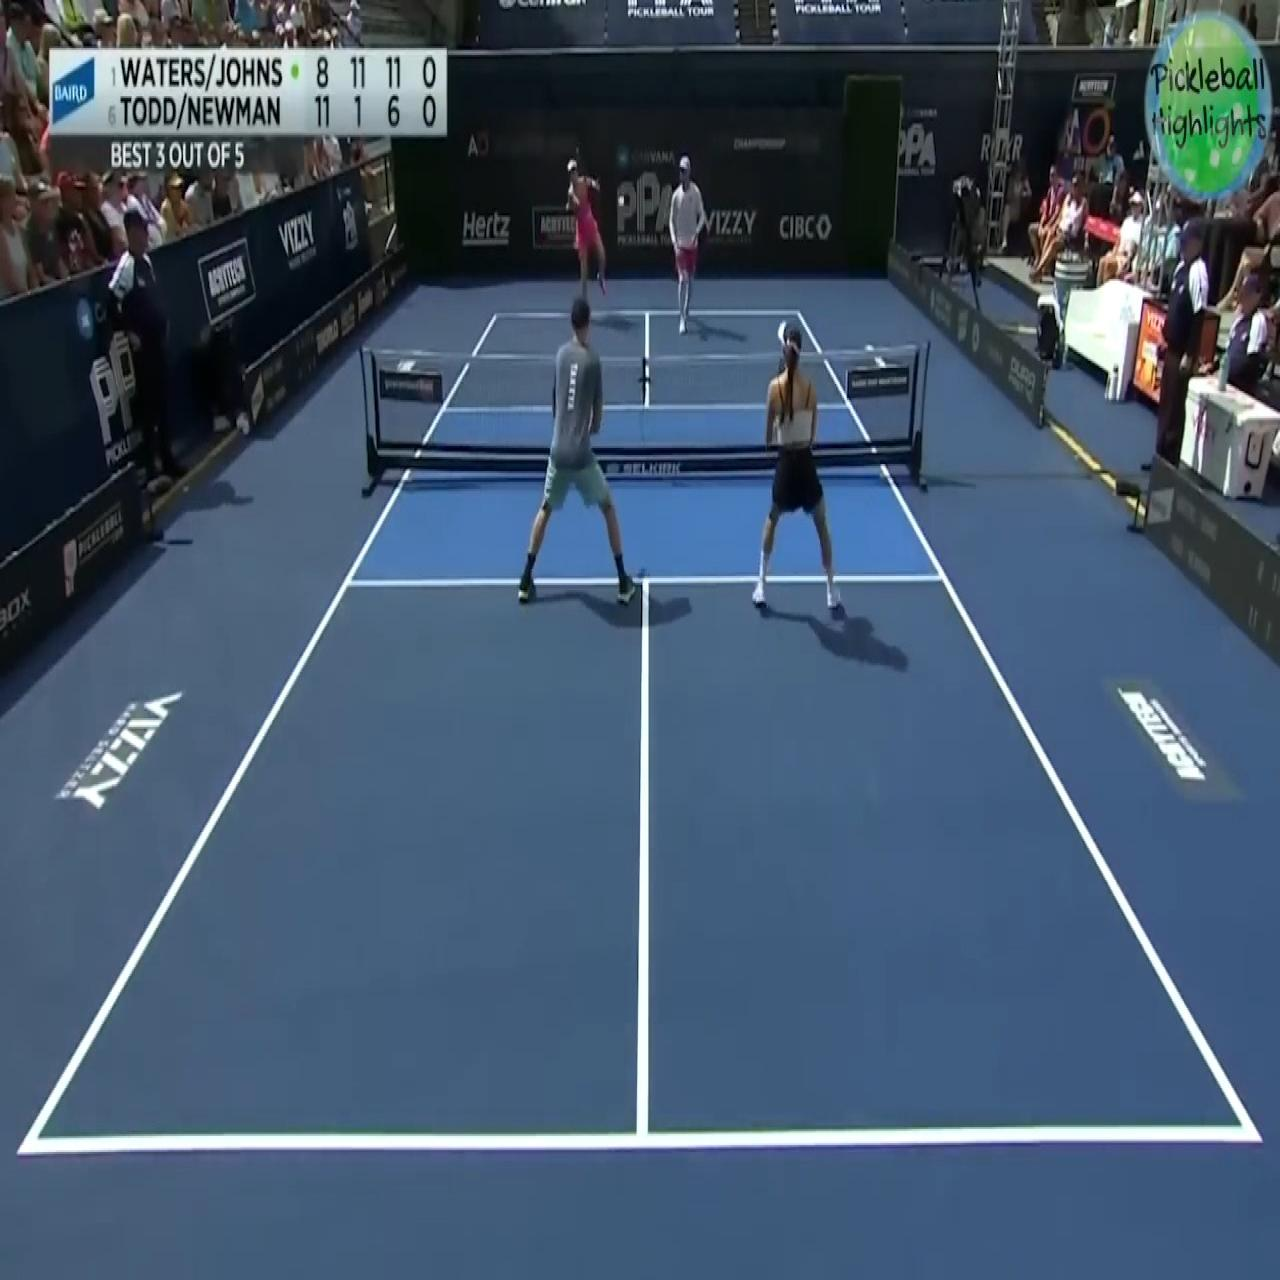Pickleball: (615, 190, 626, 210)
